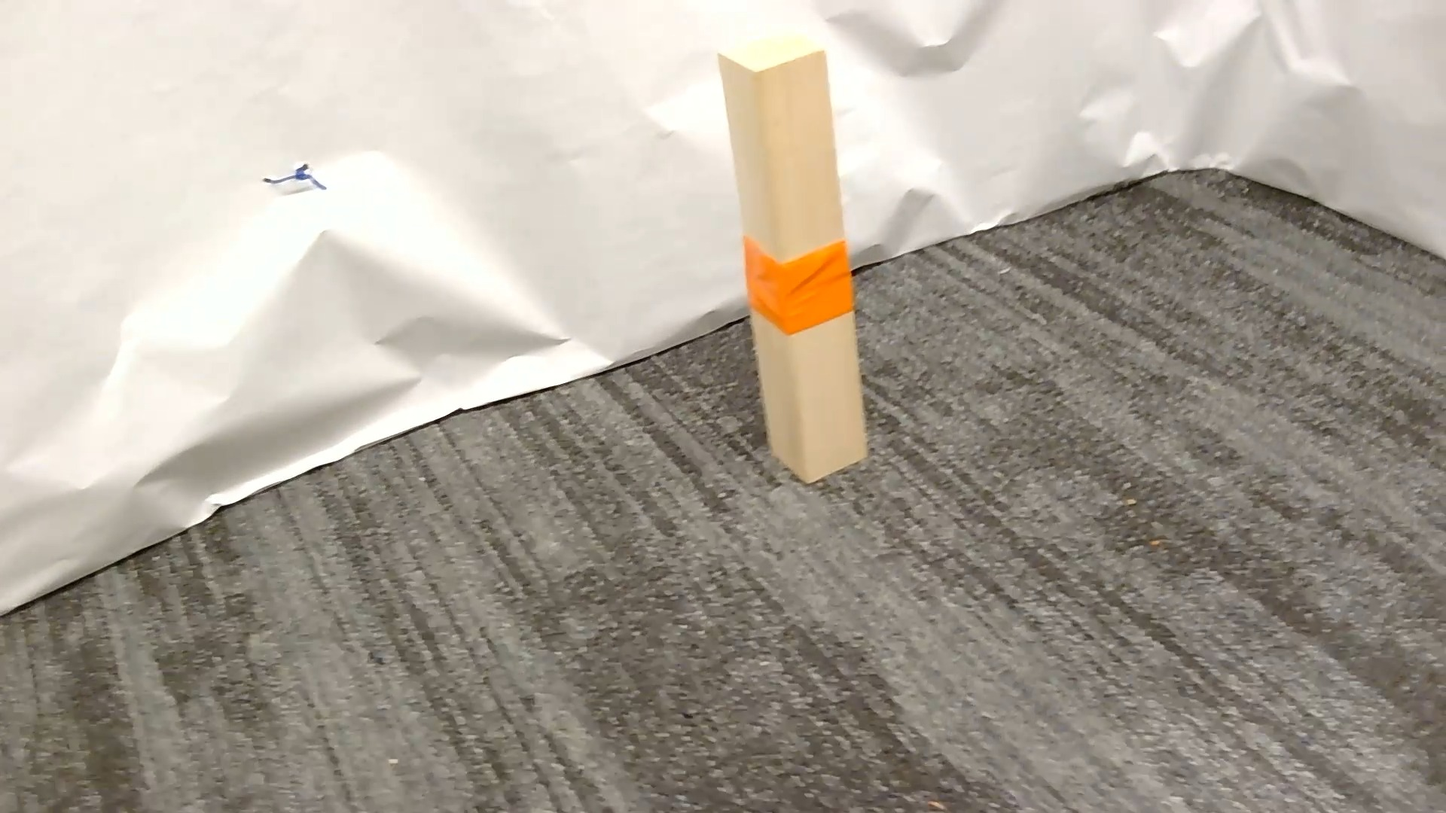Wooden Block: (719, 35, 866, 482)
